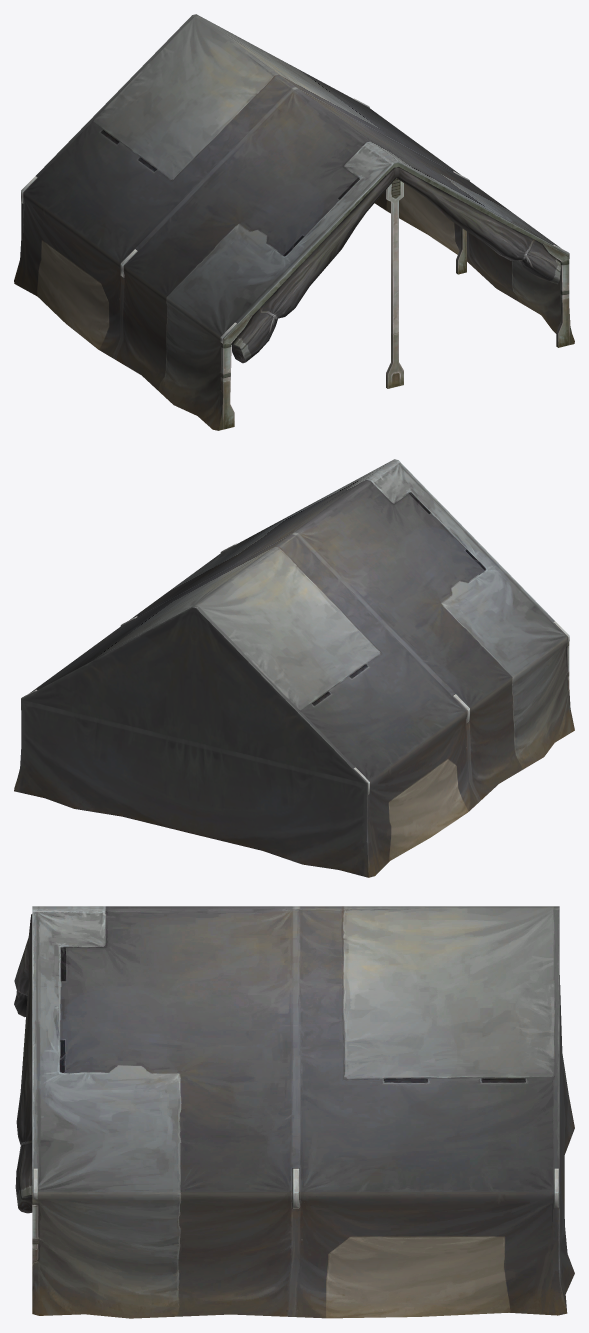
Rendered from all_arch_neu_tent_large.glb.
The picture shows the model from 3 angles, top to bottom: view 1: azimuth 30°, elevation 25°; view 2: azimuth 150°, elevation 25°; view 3: azimuth 270°, elevation 25°; orthographic projection. The views are drawn at different scales.
Visible parts, largest first — view 1: all_arch_neu_tent_large; view 2: all_arch_neu_tent_large; view 3: all_arch_neu_tent_large.
Boxes of the visible parts, box(x1,y1,x2,y2) form: all_arch_neu_tent_large: box(14, 14, 574, 430); all_arch_neu_tent_large: box(14, 459, 574, 877); all_arch_neu_tent_large: box(14, 906, 574, 1318).
Bounding box in the file's own units: 1.72 × 0.9973 × 1.73.
Materials: 1 (1 with a texture image).
